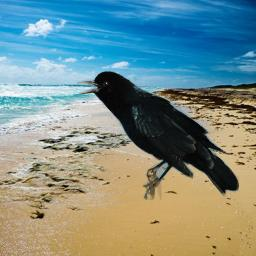Crow: (77, 71, 239, 200)
